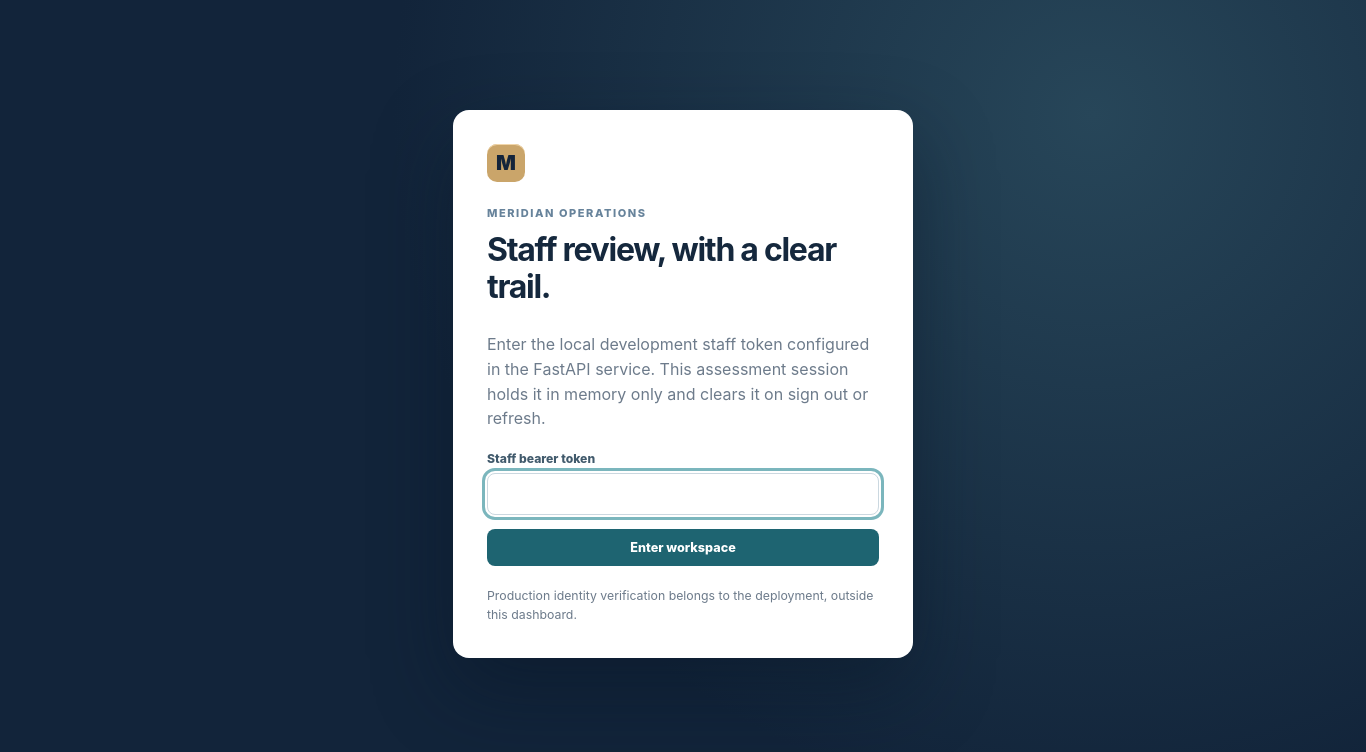
Test case: register and upload › moves through API pagination without inventing a global search
Type "valid-token" into the password field labelled "Staff bearer token".
click(683, 494); type("valid-token")  # box [487,473,879,515]
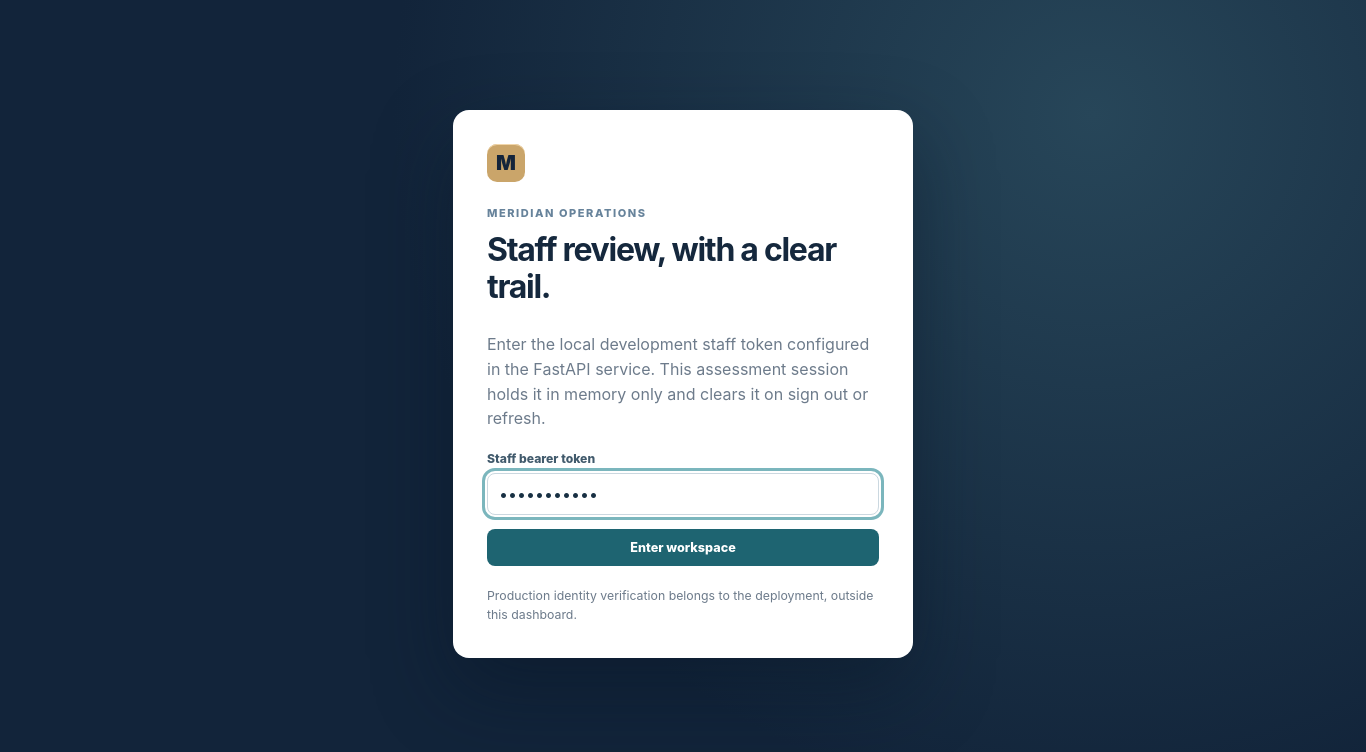
Click the button "Enter workspace".
click(683, 548)  # box [487,529,879,566]
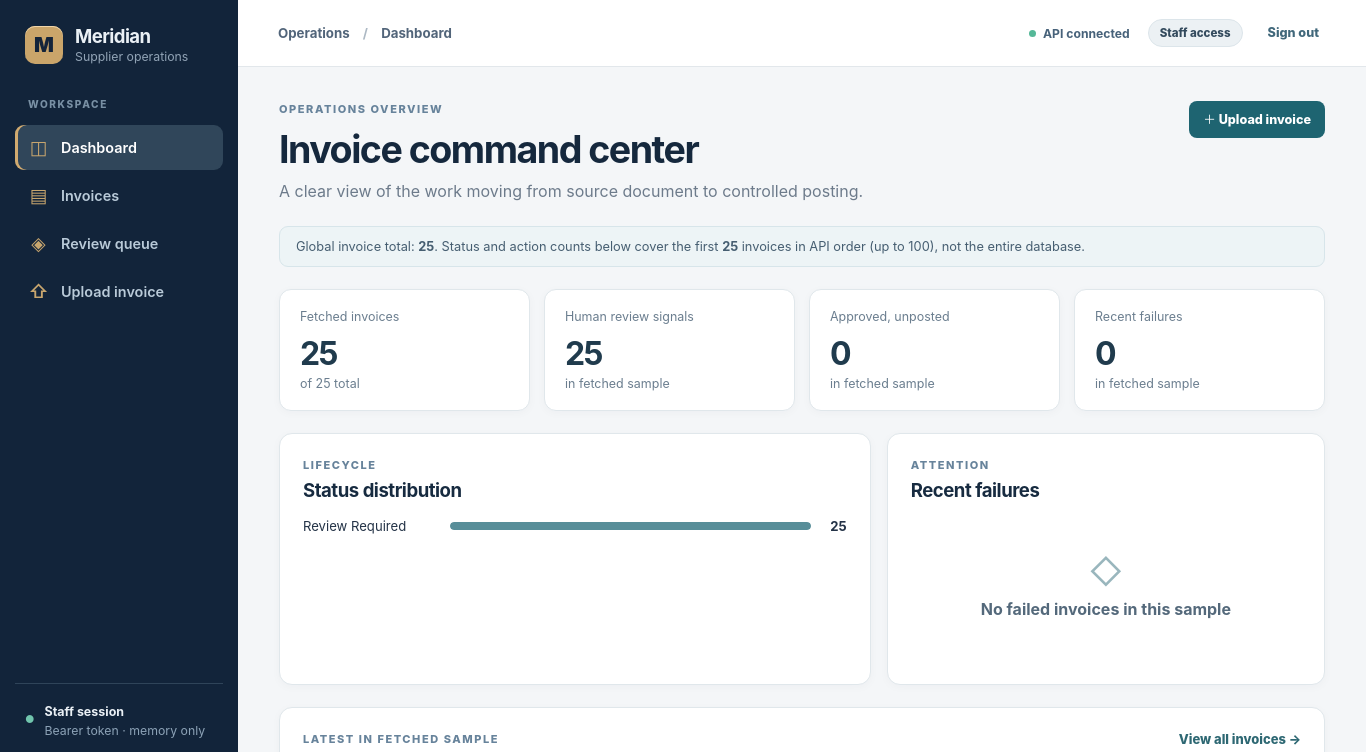
Now the heading "Invoice command center" is shown, box [279,127,698,172]
Click the link "▤ Invoices".
click(74, 195)  # box [30,184,119,207]
(page scrolled)
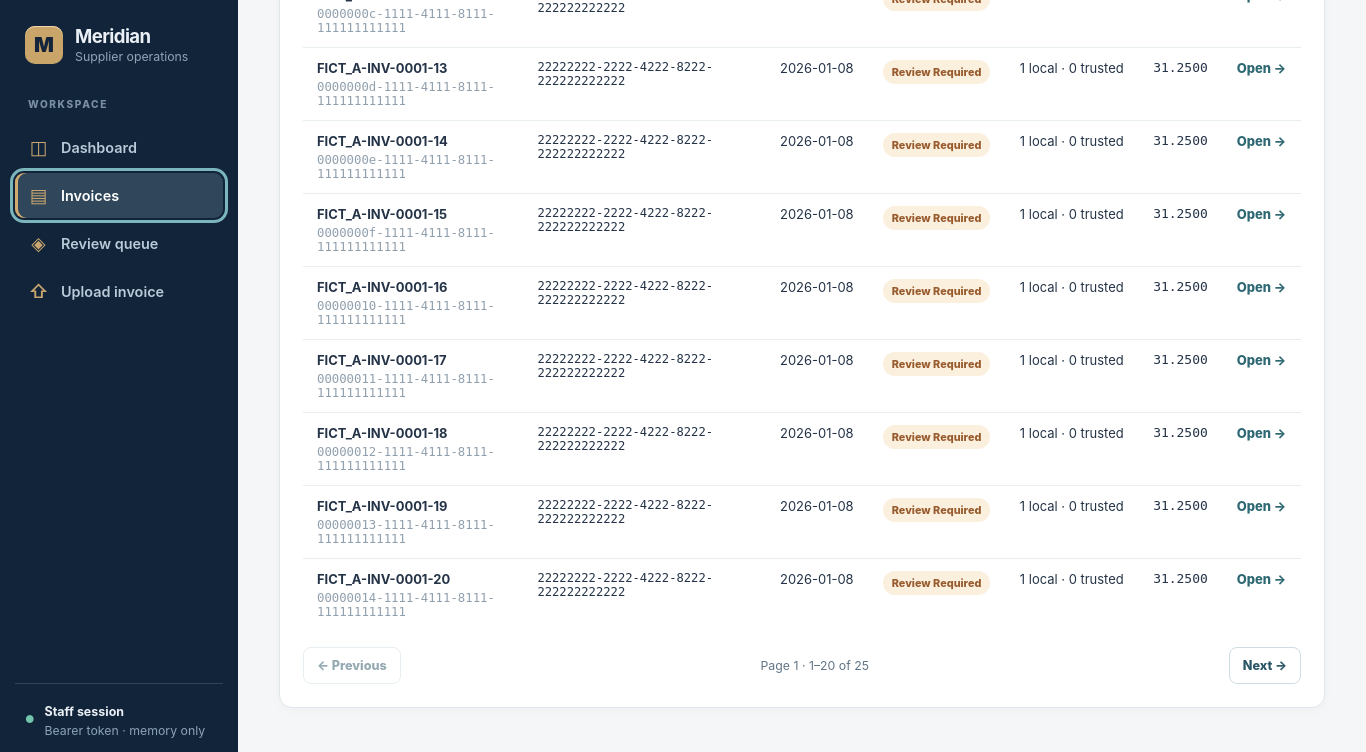
Click the button "Next →".
click(1265, 666)  # box [1229,647,1301,684]
(page scrolled)
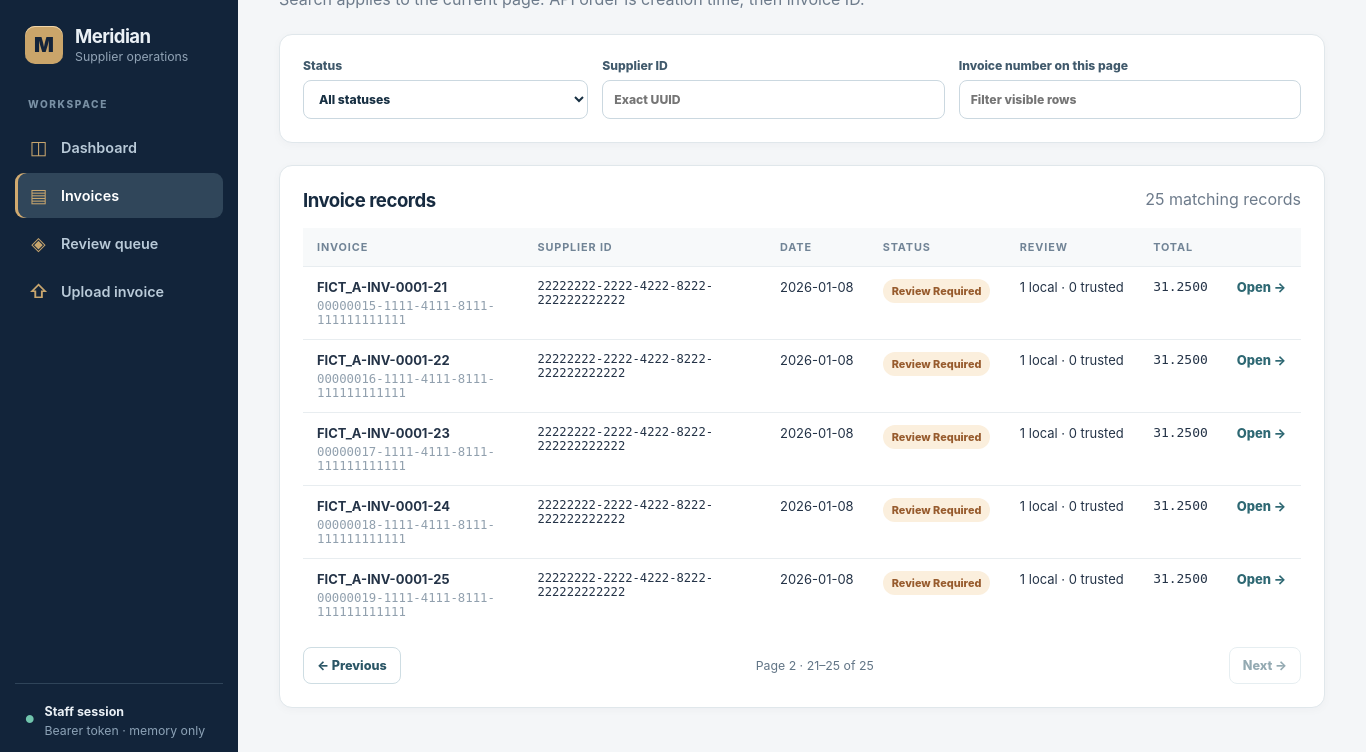
Now the text "Page 2 · 21–25 of 25" is shown, box [756,658,874,673]
